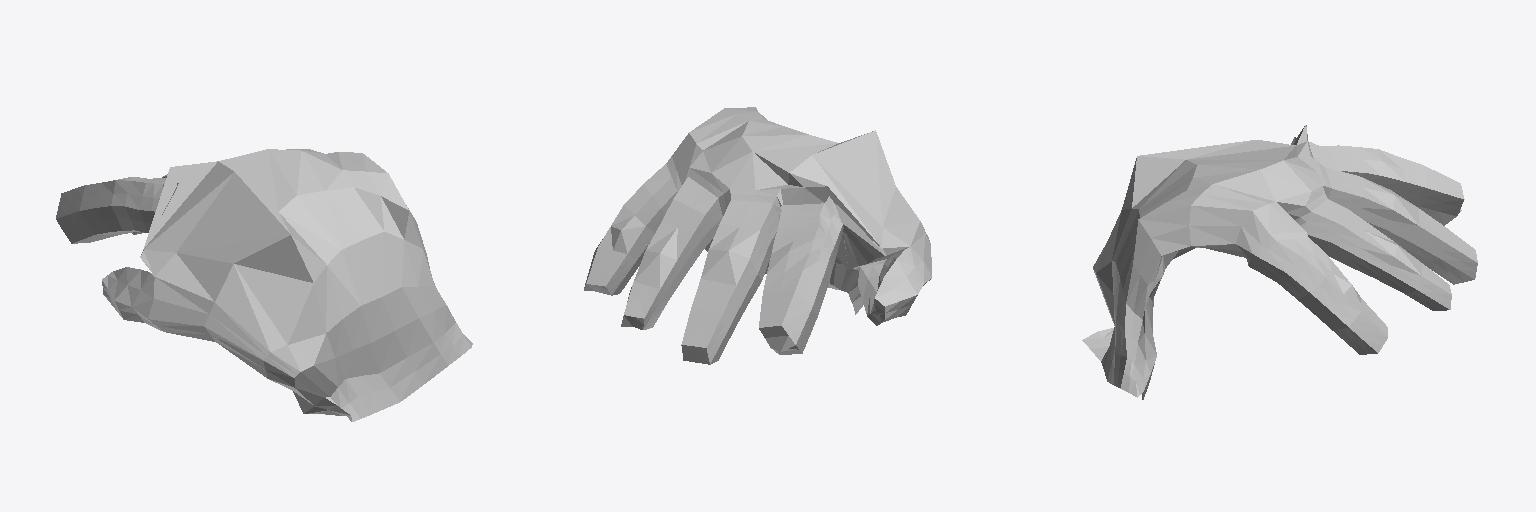
Rendered from flexion0055.obj.
The picture shows the model from 3 angles: view 1: azimuth 30°, elevation 25°; view 2: azimuth 150°, elevation 25°; view 3: azimuth 270°, elevation 25°; orthographic projection.
Parts seen in each view (by area): view 1: Hand; view 2: Hand; view 3: Hand.
Part boxes in pixels (bbox=[...]): Hand: bbox=[56, 149, 472, 421]; Hand: bbox=[584, 107, 931, 364]; Hand: bbox=[1082, 125, 1477, 399].
Size of the model in its own units: 3.27 by 2.23 by 3.85.